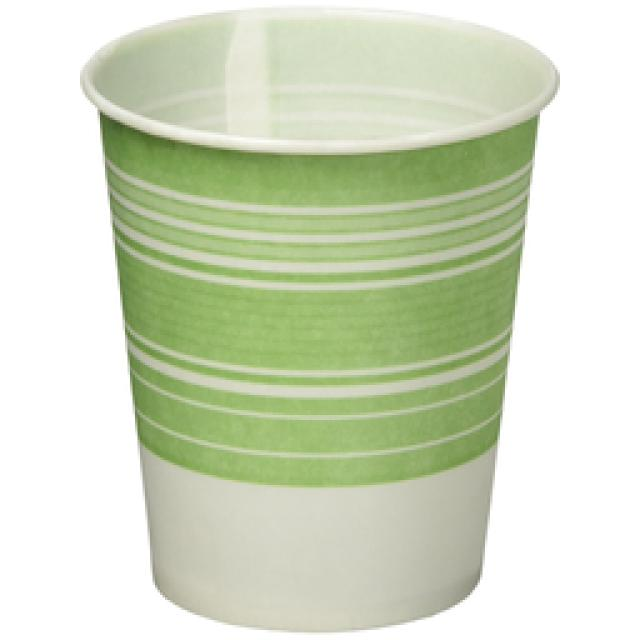paper_cups: (80, 3, 558, 631)
